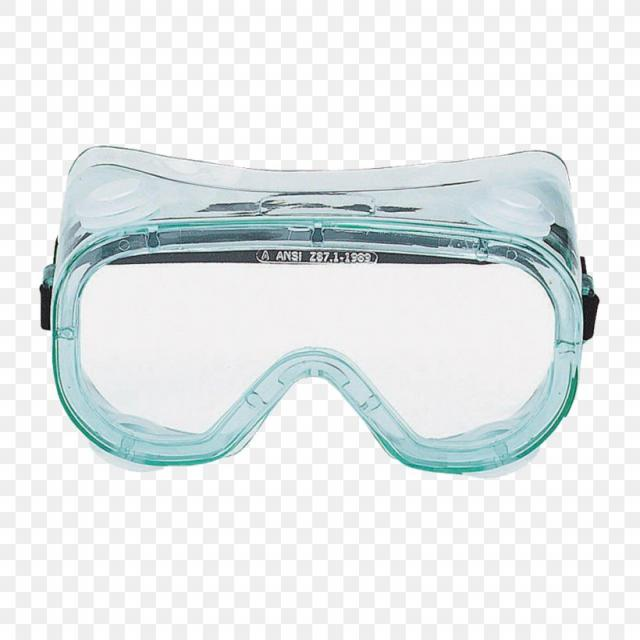Protective Glasses: (36, 124, 600, 494)
